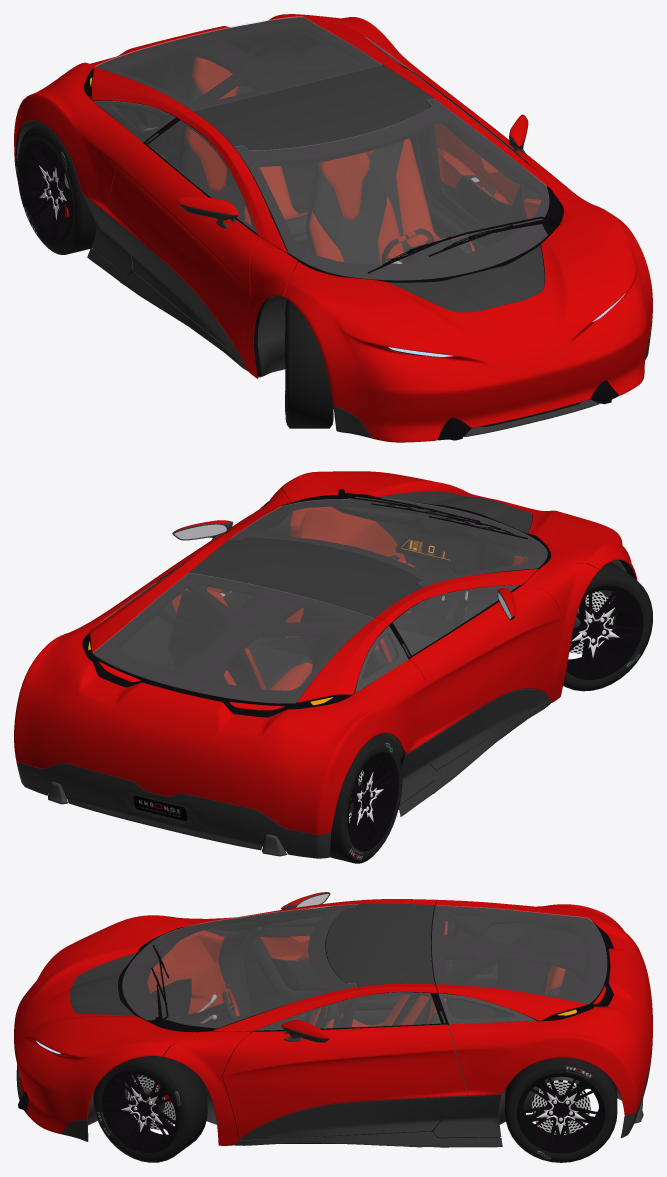
File: car.glb
3 renders of one model, top to bottom at view 1: azimuth 30°, elevation 25°; view 2: azimuth 150°, elevation 25°; view 3: azimuth 270°, elevation 25°, orthographic. The views are drawn at different scales.
Visible parts, largest first — view 1: BodyHood, BodyWindshield, BodyRearwindow, BodyDoorRColor1, BodyRearPanelsColor1, BodyRoofPanel, BodyWindshieldGasket, InteriorSeatsColor1, InteriorSeatsColor2, BodyPillars, InteriorPillar, InteriorRearHatch (+21 smaller); view 2: BodyRearPanelsColor1, BodyRearwindow, BodyWindshield, BodyDoorRColor1, BodyPanelsColor2, BodyRoofPanel, BodyHood, InteriorRearHatch, BodyPillars, InteriorPillar, BodyWindshieldGasket, InteriorDashMid (+22 smaller); view 3: BodyRearPanelsColor1, BodyWindshield, BodyDoorLColor1, BodyHood, BodyRearwindow, BodyRoofPanel, BodyPillars, BodyWindshieldGasket, BodyDoorLColor2, BodyPanelsColor2, WheelFrontL, InteriorRearHatch (+25 smaller).
Boxes of the visible parts, left/top/right/bottom form: BodyHood: left=283, top=198, right=652, bottom=442; BodyWindshield: left=234, top=98, right=549, bottom=280; BodyRearwindow: left=95, top=16, right=382, bottom=110; BodyDoorRColor1: left=104, top=143, right=257, bottom=362; BodyRearPanelsColor1: left=14, top=14, right=428, bottom=210; BodyRoofPanel: left=193, top=65, right=432, bottom=150; BodyWindshieldGasket: left=234, top=99, right=563, bottom=282; InteriorSeatsColor1: left=185, top=57, right=475, bottom=264; InteriorSeatsColor2: left=180, top=78, right=472, bottom=264; BodyPillars: left=176, top=61, right=598, bottom=378; InteriorPillar: left=158, top=37, right=434, bottom=168; InteriorRearHatch: left=93, top=17, right=383, bottom=117; BodyRearPanelsColor1: left=14, top=569, right=425, bottom=834; BodyRearwindow: left=92, top=573, right=373, bottom=703; BodyWindshield: left=229, top=497, right=547, bottom=587; BodyDoorRColor1: left=409, top=585, right=562, bottom=742; BodyPanelsColor2: left=16, top=700, right=550, bottom=858; BodyRoofPanel: left=189, top=537, right=422, bottom=617; BodyHood: left=279, top=471, right=637, bottom=580; InteriorRearHatch: left=93, top=573, right=386, bottom=707; BodyPillars: left=175, top=489, right=599, bottom=702; InteriorPillar: left=174, top=574, right=417, bottom=682; BodyWindshieldGasket: left=230, top=497, right=550, bottom=587; InteriorDashMid: left=331, top=503, right=528, bottom=622; BodyRearPanelsColor1: left=436, top=899, right=652, bottom=1115; BodyWindshield: left=122, top=904, right=357, bottom=1028; BodyDoorLColor1: left=222, top=1024, right=467, bottom=1139; BodyHood: left=14, top=915, right=196, bottom=1133; BodyRearwindow: left=432, top=905, right=606, bottom=1003; BodyRoofPanel: left=326, top=903, right=434, bottom=986; BodyPillars: left=163, top=899, right=437, bottom=1145; BodyWindshieldGasket: left=118, top=905, right=357, bottom=1032; BodyDoorLColor2: left=240, top=1096, right=467, bottom=1140; BodyPanelsColor2: left=16, top=1050, right=652, bottom=1147; WheelFrontL: left=93, top=1054, right=207, bottom=1162; InteriorRearHatch: left=431, top=905, right=606, bottom=1020.
Bounding box in the file's own units: 2.54 × 1.15 × 4.36.
23 materials, 6 textured.
